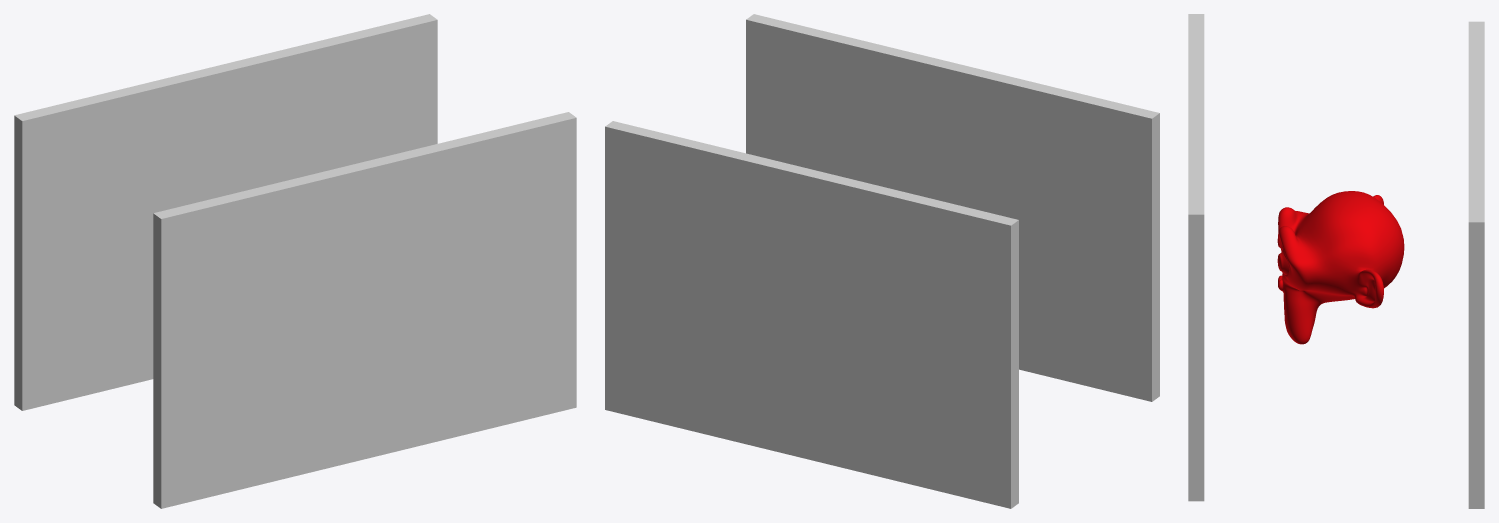
The model's file is Glass.gltf.
The picture shows the model from 3 angles, left to right: view 1: azimuth 30°, elevation 25°; view 2: azimuth 150°, elevation 25°; view 3: azimuth 270°, elevation 25°; orthographic projection. The views are drawn at different scales.
Visible parts, largest first — view 1: Cube.001, Cube; view 2: Cube, Cube.001; view 3: Suzanne, Cube, Cube.001.
Boxes of the visible parts, <box> form: Cube.001: <box>153,112,576,508</box>; Cube: <box>14,14,437,410</box>; Cube: <box>605,121,1018,508</box>; Cube.001: <box>746,14,1159,401</box>; Suzanne: <box>1277,191,1404,344</box>; Cube: <box>1468,21,1484,508</box>; Cube.001: <box>1188,14,1204,501</box>.
Size of the model in its own units: 6.04 by 4.09 by 3.74.
